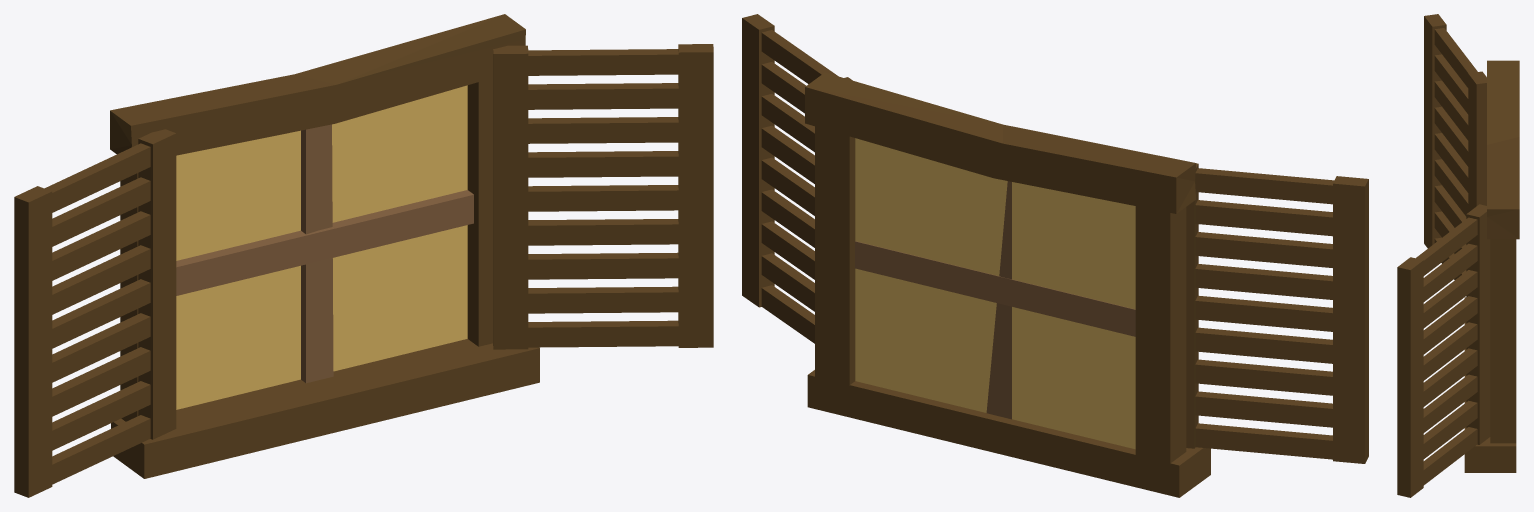
File: Window_03.fbx
3 views of the same model, side by side, from view 1: azimuth 30°, elevation 25°; view 2: azimuth 150°, elevation 25°; view 3: azimuth 270°, elevation 25° (orthographic). The views are drawn at different scales.
Visible parts, largest first — view 1: Window_03; view 2: Window_03; view 3: Window_03.
Boxes of the visible parts, <box> form: Window_03: <box>14,14,713,497</box>; Window_03: <box>742,14,1368,497</box>; Window_03: <box>1397,14,1519,497</box>.
Bounding box in the file's own units: 1.94 × 0.9337 × 0.3913.
